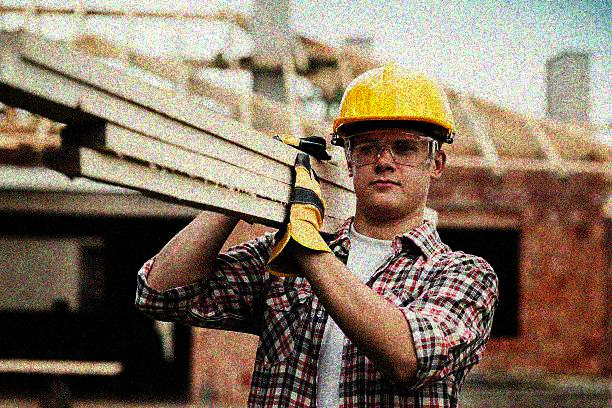helmet: (332, 65, 456, 219)
